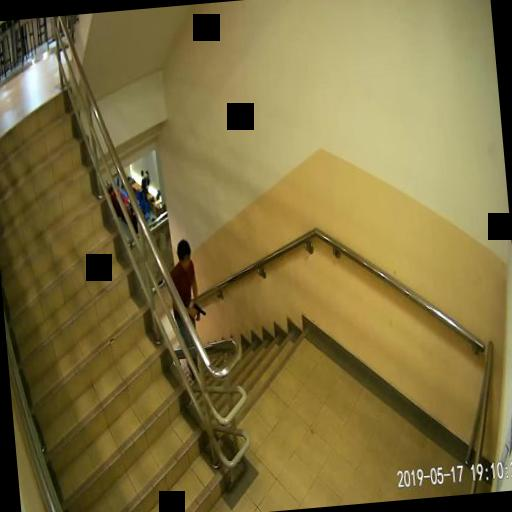Handgun: (191, 302, 205, 317)
